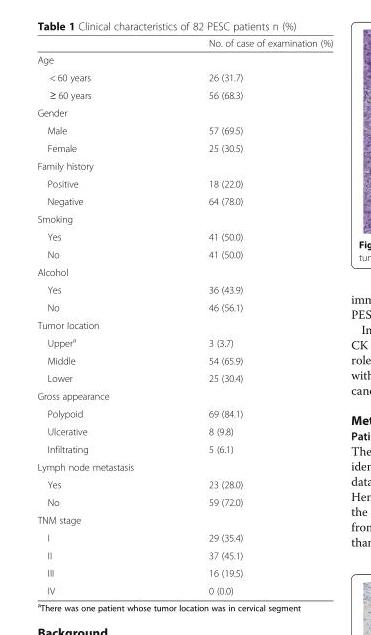table: (36, 37, 332, 596)
table column: (149, 37, 332, 596), (36, 37, 149, 596)
table column header: (36, 37, 332, 51)
table projected row header: (36, 103, 332, 121), (36, 156, 332, 174), (36, 209, 332, 227), (36, 262, 332, 280), (36, 386, 332, 404), (36, 457, 332, 475), (36, 510, 332, 528), (36, 51, 332, 68), (36, 316, 332, 332)
table row: (36, 332, 332, 351), (36, 85, 332, 103), (36, 103, 332, 121), (36, 121, 332, 139), (36, 156, 332, 174), (36, 174, 332, 192), (36, 209, 332, 227), (36, 227, 332, 245), (36, 262, 332, 280), (36, 280, 332, 298), (36, 298, 332, 316), (36, 351, 332, 369), (36, 386, 332, 404), (36, 404, 332, 422), (36, 439, 332, 457), (36, 457, 332, 475), (36, 475, 332, 493), (36, 510, 332, 528), (36, 528, 332, 546), (36, 563, 332, 581), (36, 51, 332, 68), (36, 68, 332, 85), (36, 139, 332, 156), (36, 192, 332, 209), (36, 245, 332, 262), (36, 369, 332, 386), (36, 422, 332, 439), (36, 493, 332, 510), (36, 546, 332, 563), (36, 316, 332, 332), (36, 581, 332, 596), (36, 37, 332, 51)
